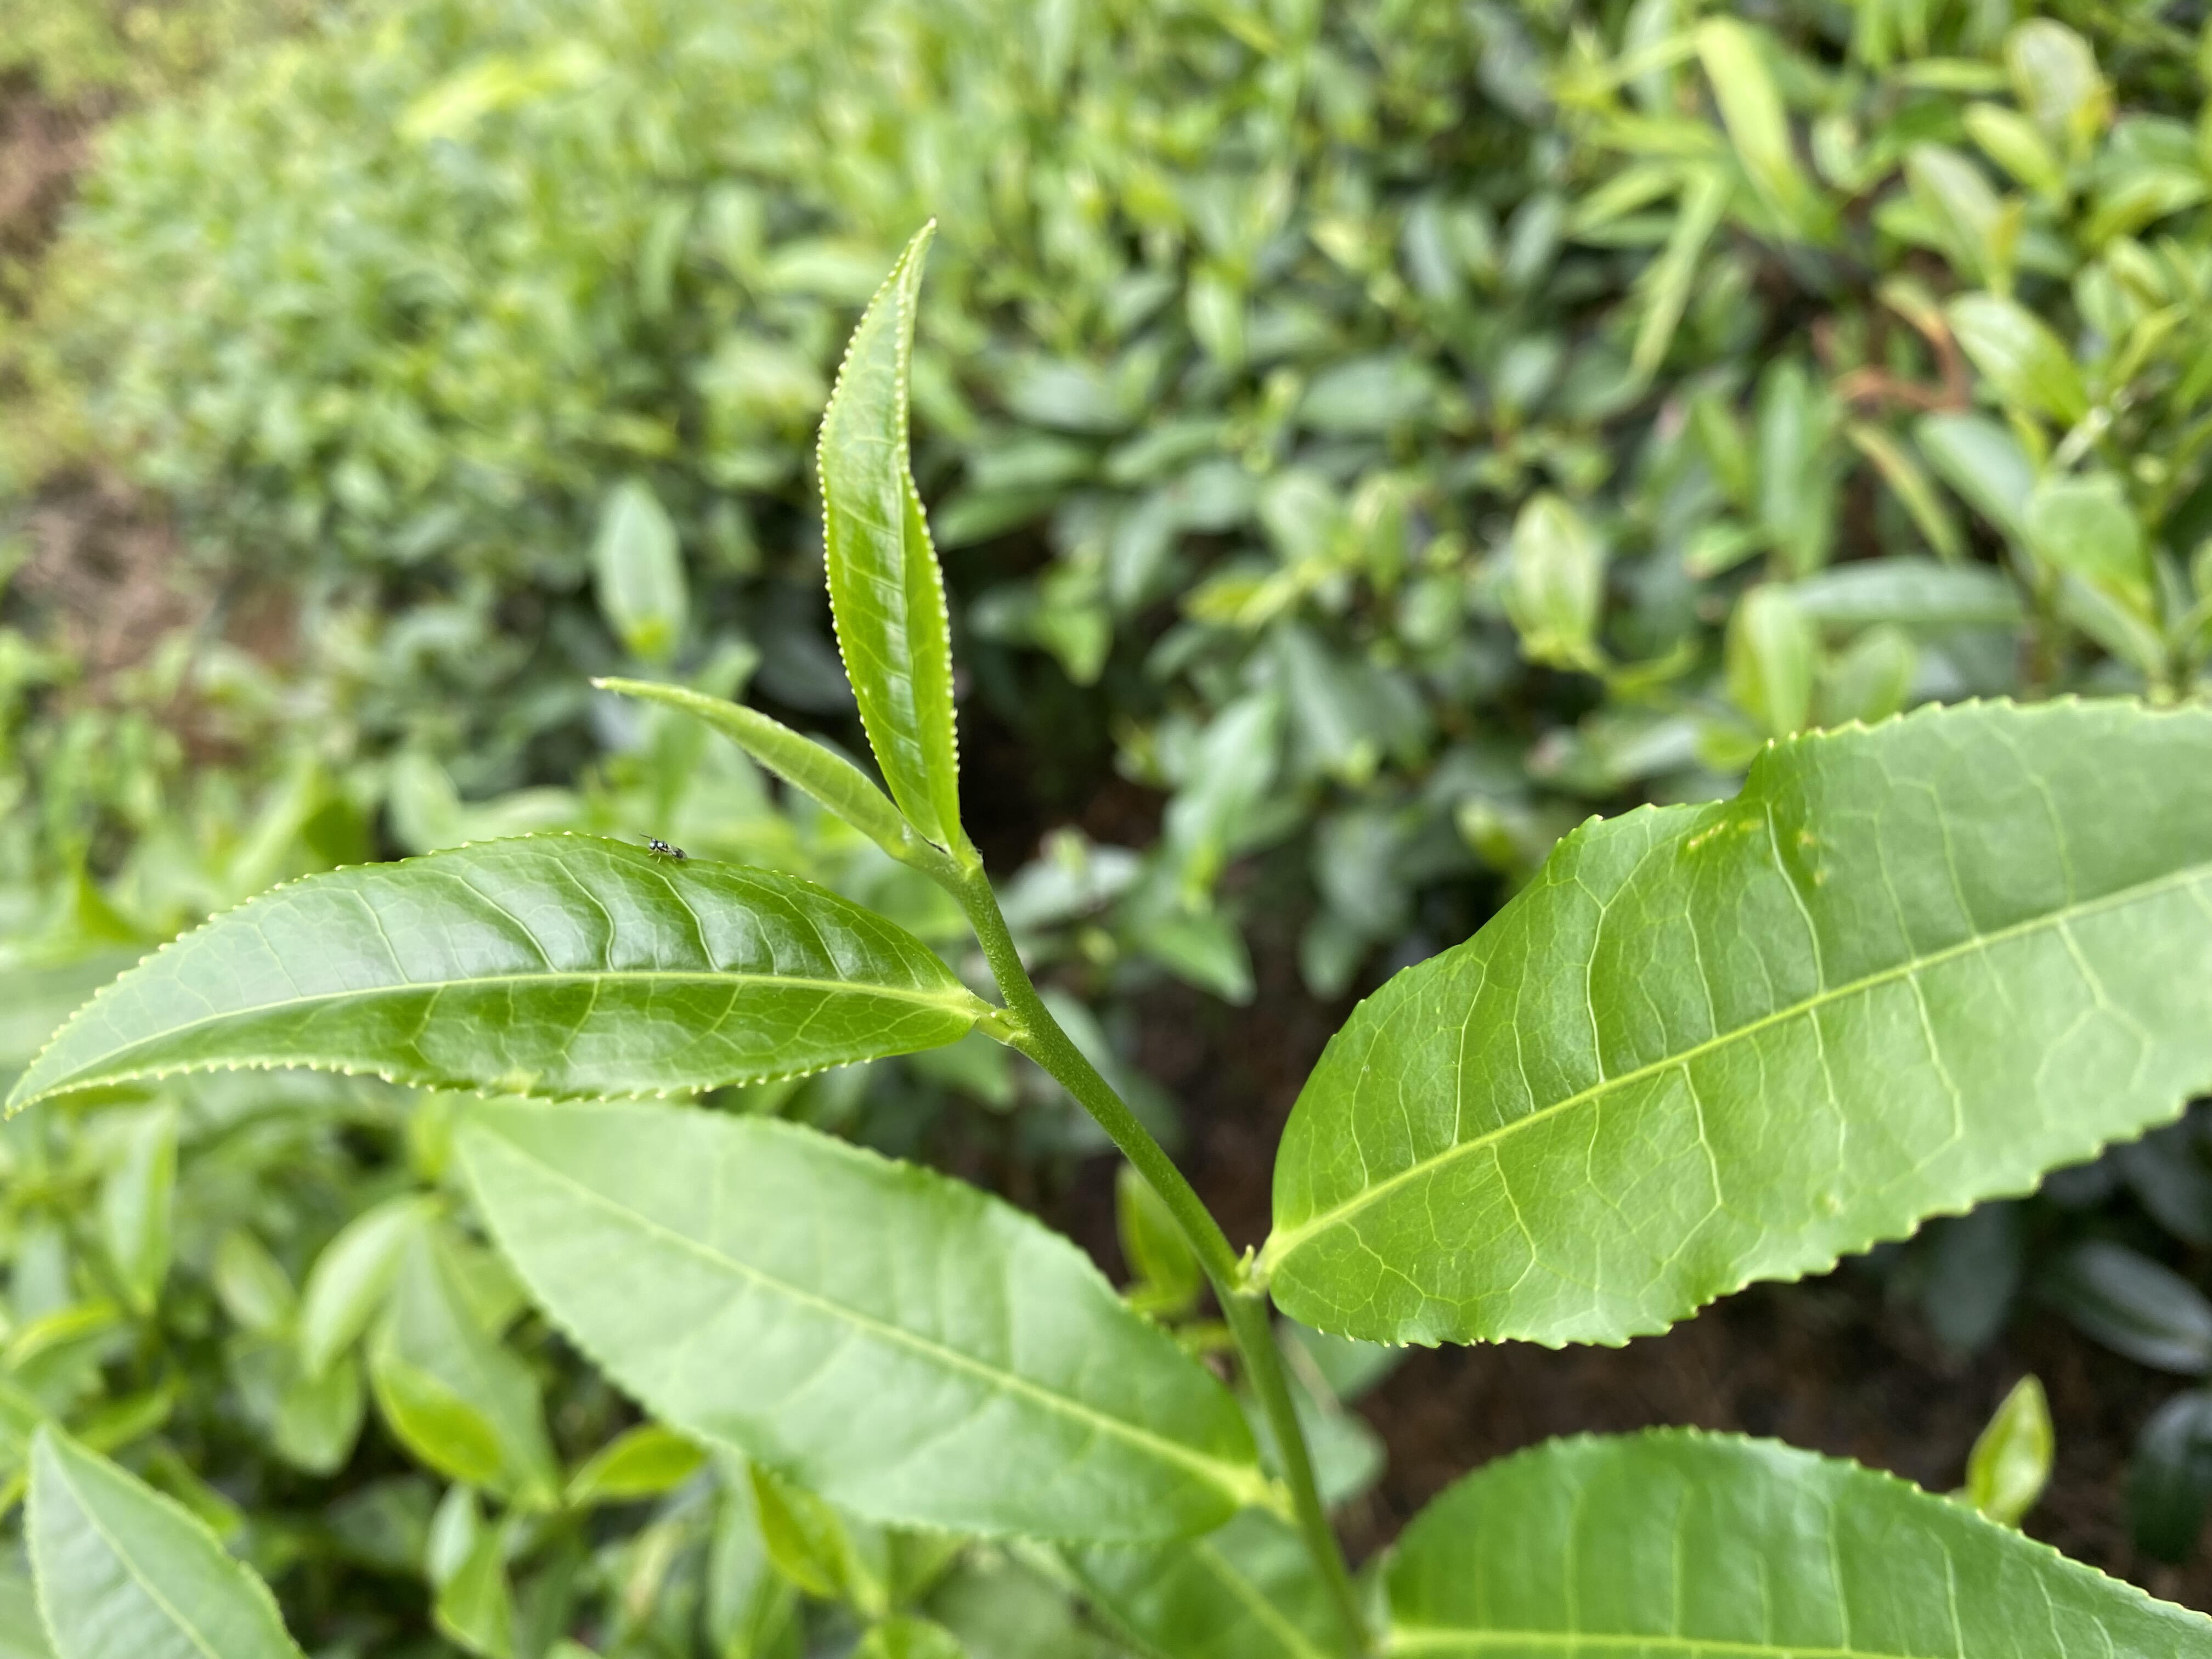healthy: (1259, 692, 2209, 1352), (5, 831, 982, 1122), (813, 218, 963, 852)
